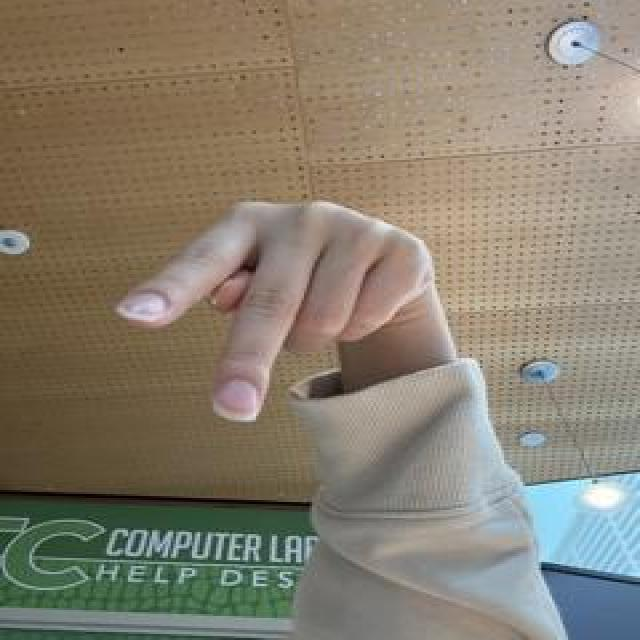P: (106, 194, 458, 424)
